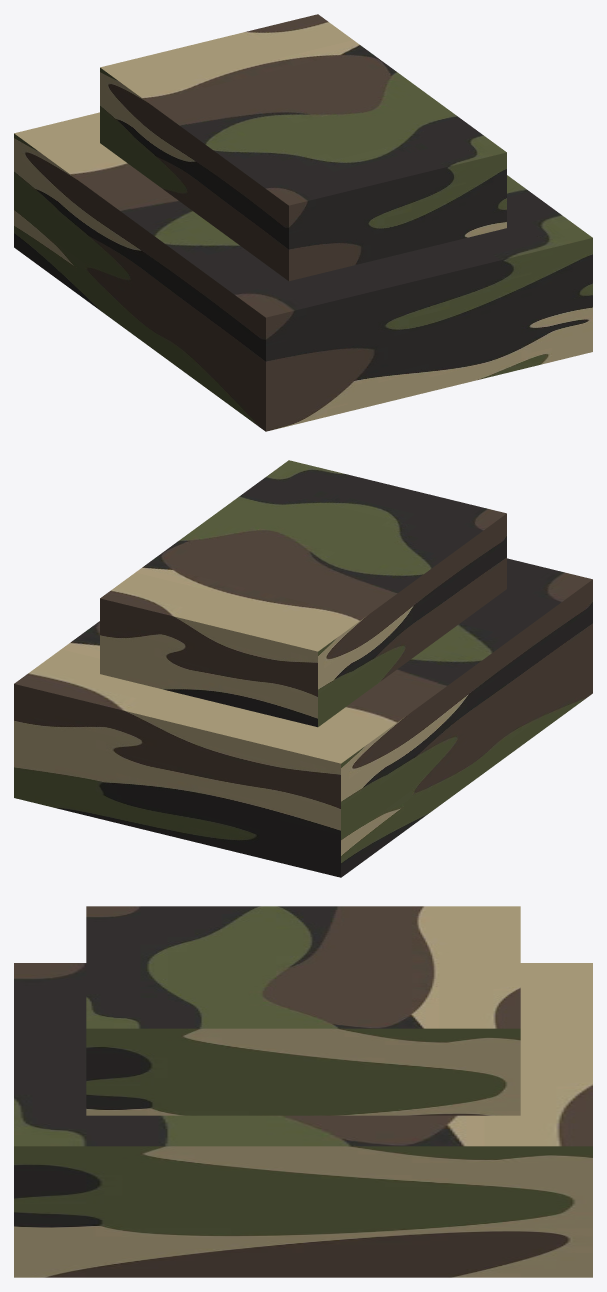
The model's file is TankBase.fbx.
The picture shows the model from 3 angles, top to bottom: view 1: azimuth 30°, elevation 25°; view 2: azimuth 150°, elevation 25°; view 3: azimuth 270°, elevation 25°; orthographic projection. The views are drawn at different scales.
Visible parts, largest first — view 1: pCube1, polySurface1; view 2: pCube1, polySurface1; view 3: pCube1, polySurface1.
Boxes of the visible parts, <box> form: pCube1: <box>14,112,592,431</box>; polySurface1: <box>100,14,506,281</box>; pCube1: <box>14,558,592,877</box>; polySurface1: <box>100,460,506,727</box>; pCube1: <box>14,963,592,1277</box>; polySurface1: <box>86,906,520,1115</box>.
Size of the model in its own units: 3 by 1.66 by 4.
2 materials, 2 textured.
